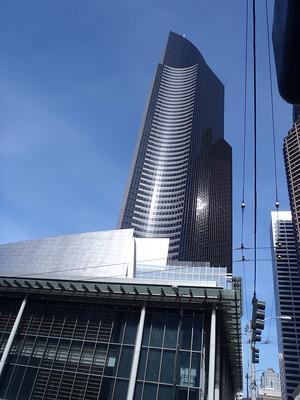building: (113, 26, 237, 294)
